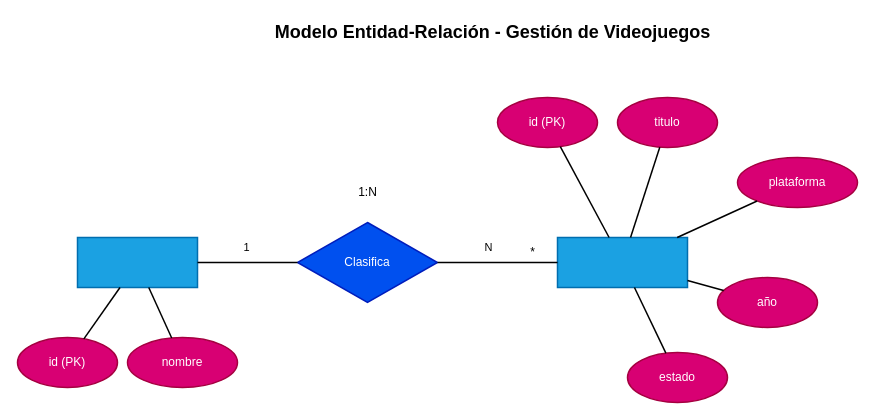
This 876x420 diagram has some shape labels left out. The centre of each missing label's shape, as x and y in pixels:
"Categoria" belongs at [137,262].
"Videojuego" belongs at [622,262].
